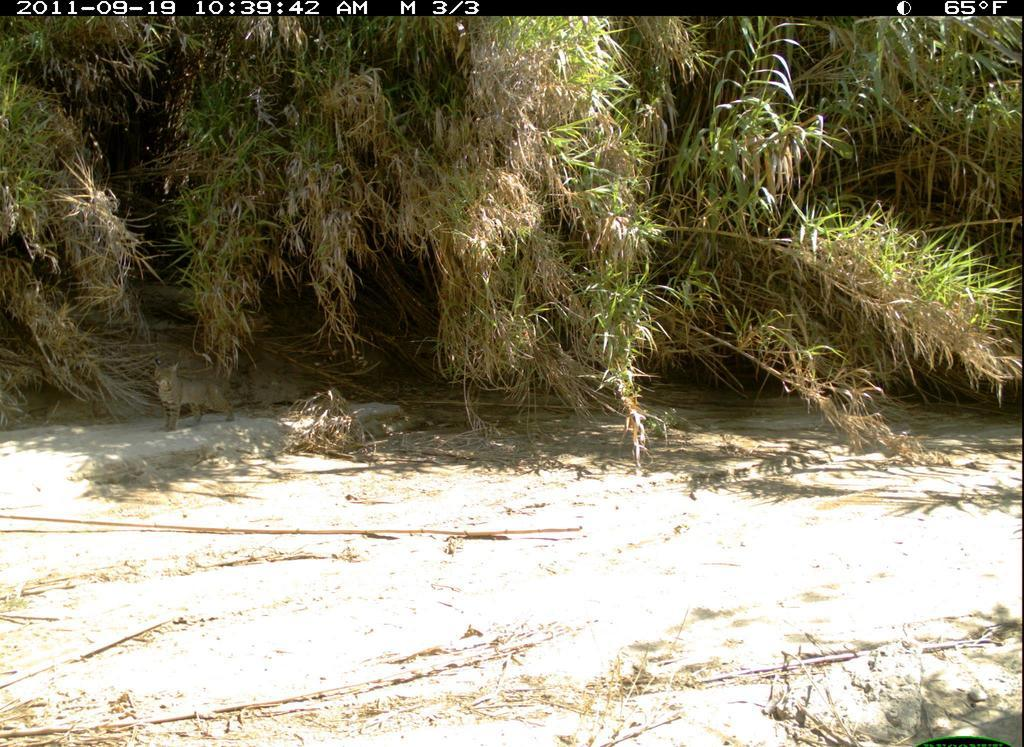bobcat: (143, 347, 251, 441)
